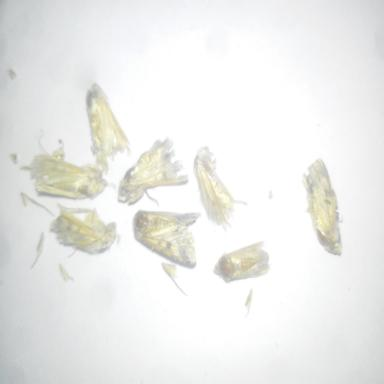abw: (25, 127, 118, 205), (112, 131, 190, 210), (187, 144, 250, 234), (298, 154, 346, 260), (128, 202, 202, 270), (81, 79, 135, 167), (46, 202, 121, 258), (212, 238, 272, 287)
